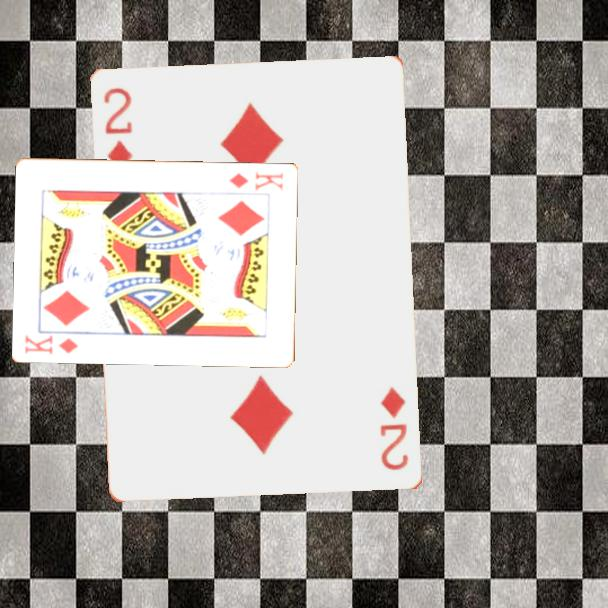d02: (100, 84, 136, 174), (377, 384, 412, 473)
d13: (22, 331, 81, 357), (226, 169, 287, 193)
